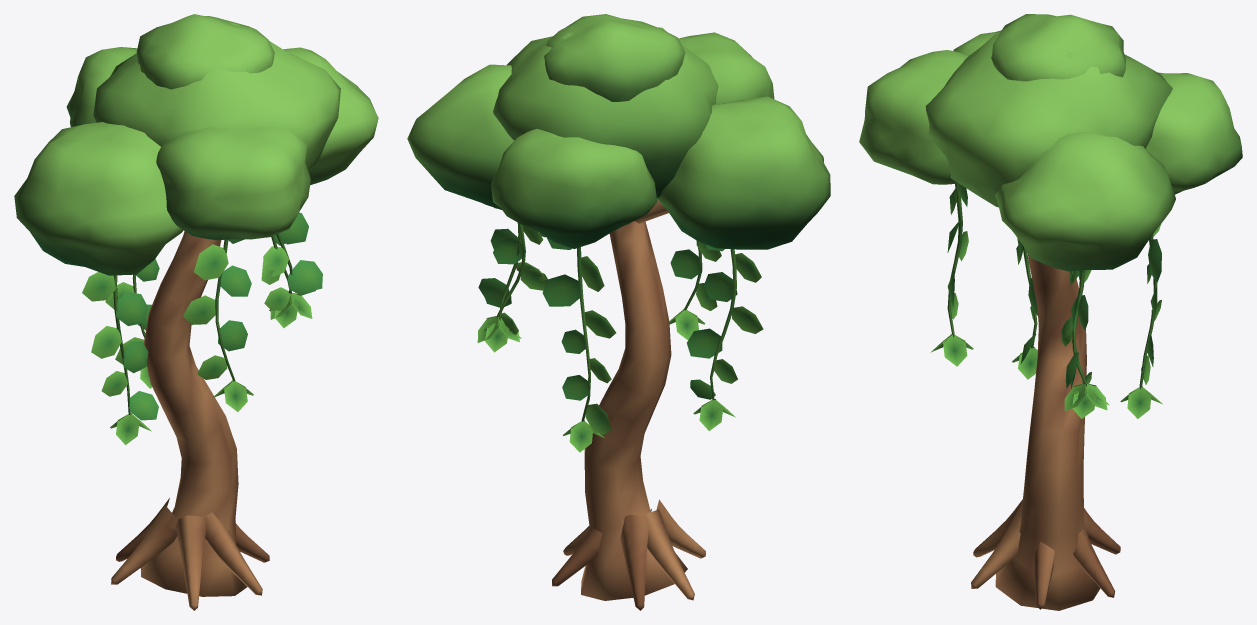
The model's file is jungle_tree.glb.
The picture shows the model from 3 angles, left to right: view 1: azimuth 30°, elevation 25°; view 2: azimuth 150°, elevation 25°; view 3: azimuth 270°, elevation 25°; orthographic projection. The views are drawn at different scales.
Parts seen in each view (by area): view 1: JungleTree; view 2: JungleTree; view 3: JungleTree.
Boxes of the visible parts, x1=… form: JungleTree: x1=14, y1=14, x2=378, y2=610; JungleTree: x1=407, y1=14, x2=830, y2=610; JungleTree: x1=859, y1=14, x2=1242, y2=610.
Size of the model in its own units: 8.87 by 13.03 by 7.86.
